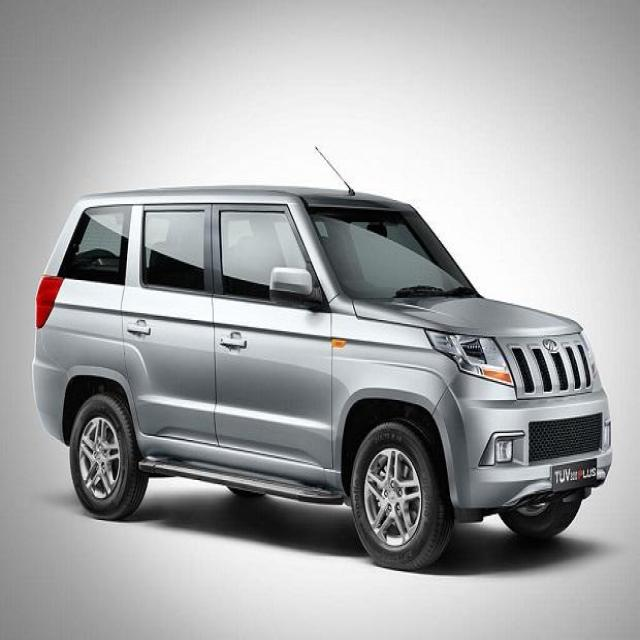light_vehicle: (28, 184, 616, 578)
